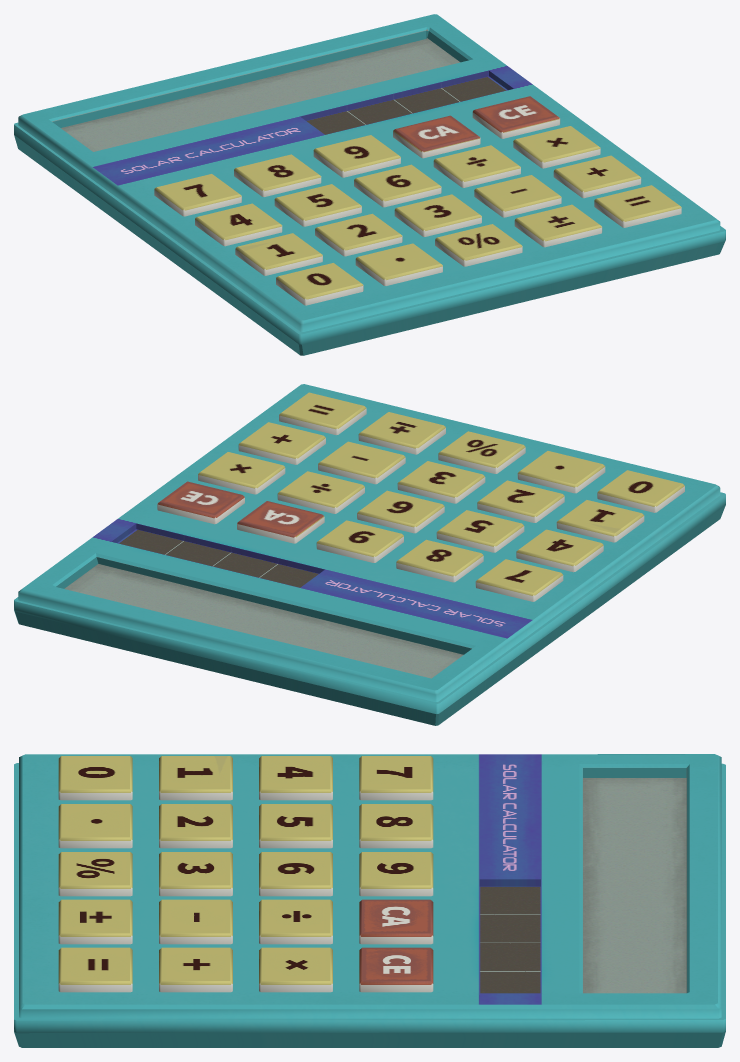
The model's file is Calculator_1990.fbx.
The picture shows the model from 3 angles, top to bottom: view 1: azimuth 30°, elevation 25°; view 2: azimuth 150°, elevation 25°; view 3: azimuth 270°, elevation 25°; orthographic projection. The views are drawn at different scales.
Parts seen in each view (by area): view 1: Calculator Body, Button.019, Button.003, Button.009, Button.014, Button.016, Button.008, Button.011, Button.012, Button.017, Button.018, Button (+9 smaller); view 2: Calculator Body, Button.015, Button.001, Button.005, Button.007, Button.011, Button, Button.002, Button.008, Button.009, Button.016, Button.003 (+9 smaller); view 3: Calculator Body, Button.003, Button.004, Button.018, Button.019, Button.008, Button.009, Button.013, Button.014, Button.002, Button, Button.001 (+9 smaller).
Boxes of the visible parts, x1,y1,x2,y2 form: Calculator Body: (14,14,725,355); Button.019: (472,96,560,138); Button.003: (514,204,602,247); Button.009: (553,155,641,198); Button.014: (513,126,600,168); Button.016: (234,154,321,196); Button.008: (474,175,561,217); Button.011: (274,184,361,226); Button.012: (354,164,441,207); Button.017: (313,135,400,177); Button.018: (393,115,480,158); Button: (276,263,363,305); Calculator Body: (14,384,725,725); Button.015: (475,559,563,601); Button.001: (517,451,605,493); Button.005: (556,500,644,542); Button.007: (397,461,485,503); Button.011: (436,510,524,552); Button: (597,470,684,512); Button.002: (438,431,525,473); Button.008: (318,441,405,484); Button.009: (238,422,325,464); Button.016: (396,539,483,582); Button.003: (358,412,445,454); Calculator Body: (14,754,725,1047); Button.003: (58,899,132,944); Button.004: (58,947,132,992); Button.018: (359,899,433,944); Button.019: (359,947,433,992); Button.008: (159,899,232,944); Button.009: (159,947,232,992); Button.013: (259,899,332,944); Button.014: (259,947,332,992); Button.002: (58,852,132,896); Button: (58,756,132,800); Button.001: (58,804,132,848).
Bounding box in the file's own units: 10.04 × 0.9408 × 11.73.
